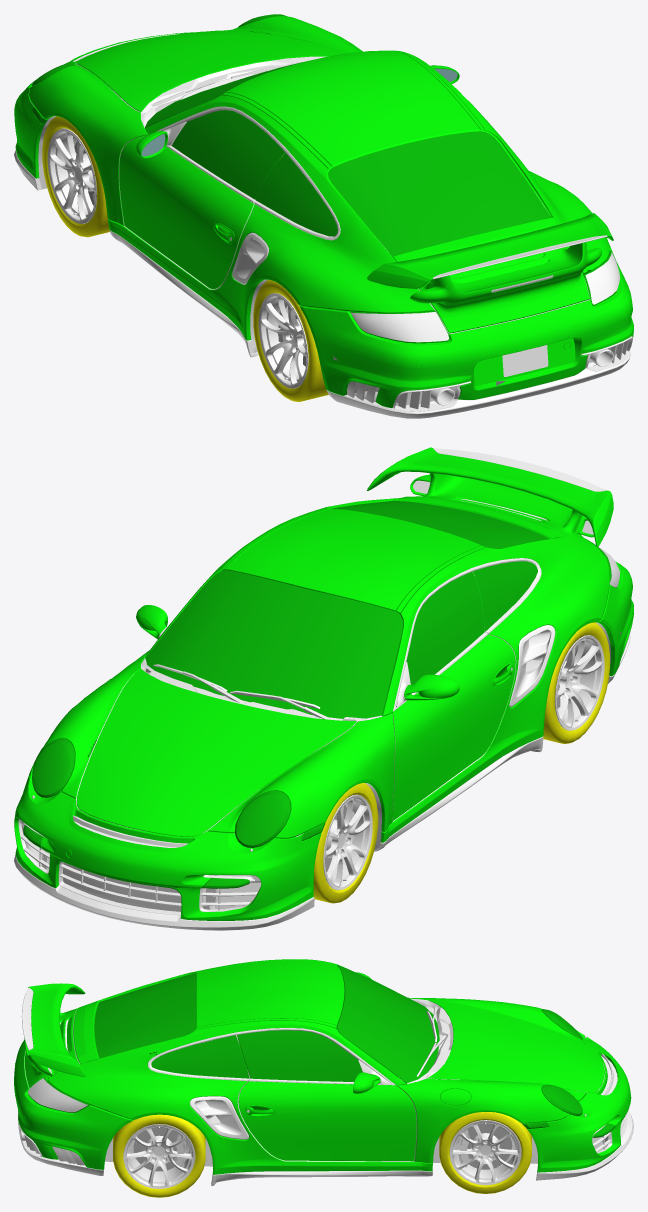
The picture shows the model from 3 angles, top to bottom: view 1: azimuth 30°, elevation 25°; view 2: azimuth 150°, elevation 25°; view 3: azimuth 270°, elevation 25°; orthographic projection. The views are drawn at different scales.
Visible parts, largest first — view 1: gt2:Mesh, rim:Mesh, wheel:Mesh; view 2: gt2:Mesh, rim:Mesh, wheel:Mesh; view 3: gt2:Mesh, Mesh1_phongE4_0, Mesh_wheel1_0, Mesh1_phongE5_0, Mesh2_lambert1_0.
Part boxes in pixels (left/top/right/bottom): gt2:Mesh: left=14, top=14, right=633, bottom=418; rim:Mesh: left=47, top=128, right=308, bottom=388; wheel:Mesh: left=42, top=116, right=328, bottom=401; gt2:Mesh: left=14, top=447, right=633, bottom=930; rim:Mesh: left=323, top=635, right=604, bottom=890; wheel:Mesh: left=313, top=622, right=609, bottom=903; gt2:Mesh: left=14, top=959, right=633, bottom=1185; Mesh1_phongE4_0: left=123, top=1120, right=521, bottom=1188; Mesh_wheel1_0: left=113, top=1112, right=531, bottom=1197; Mesh1_phongE5_0: left=133, top=1124, right=512, bottom=1171; Mesh2_lambert1_0: left=174, top=1129, right=469, bottom=1171.
Size of the model in its own units: 1.96 by 1.27 by 4.47.
